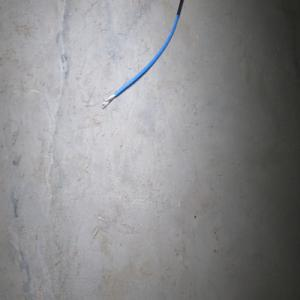Wire: (101, 0, 184, 108)
